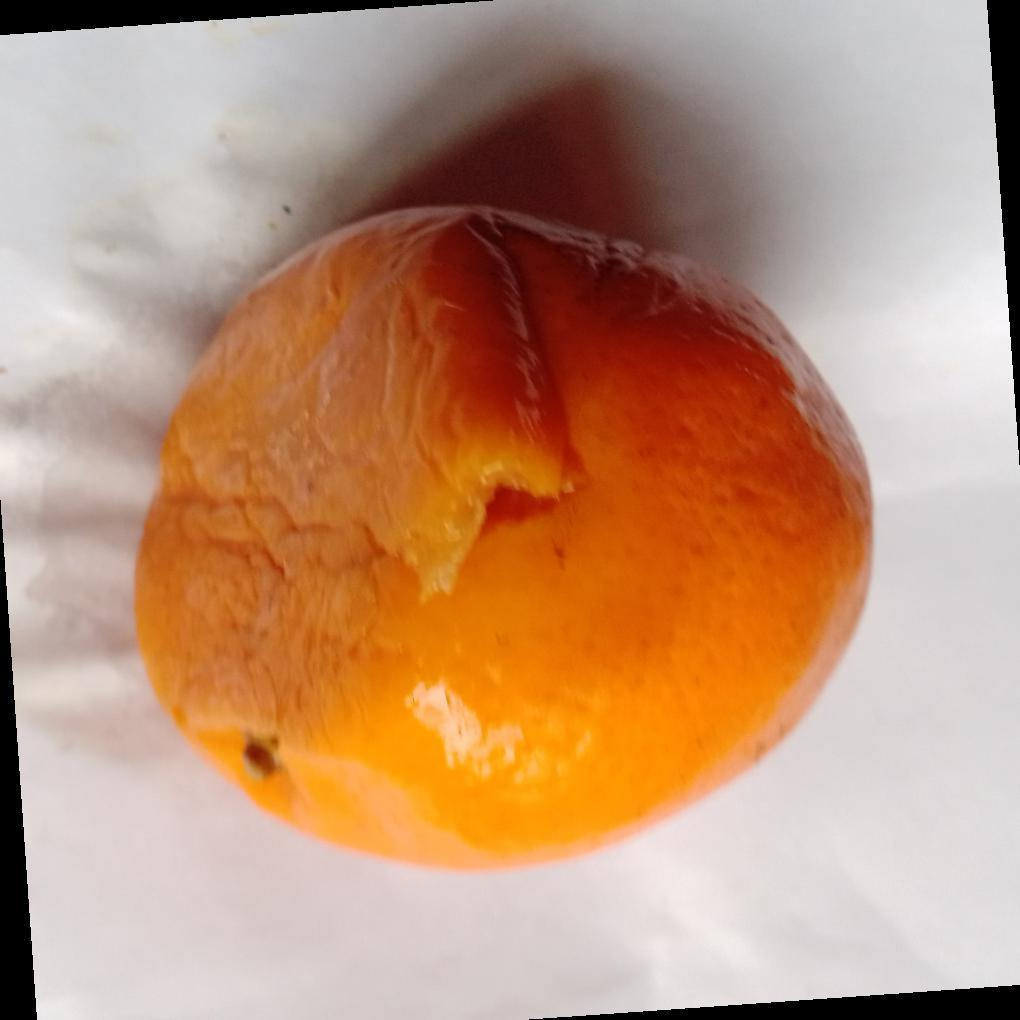FreshOrange: (130, 206, 877, 878)
